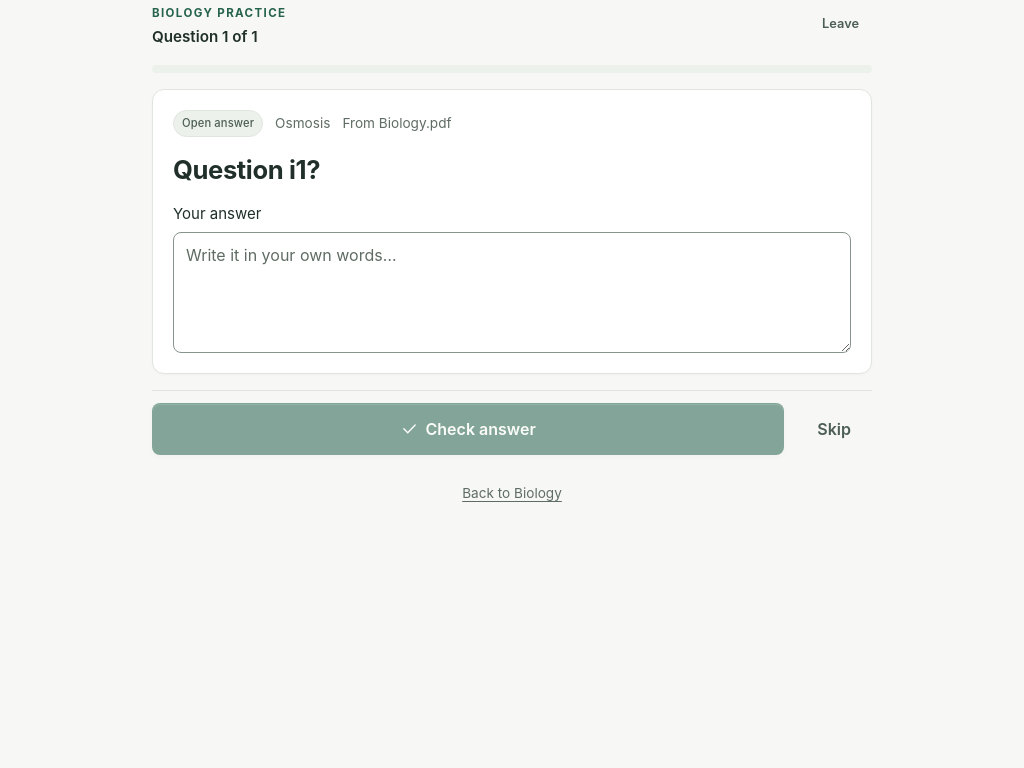
practice session › answers an open question from a text box
This screenshot has width=1024, height=768.
In the text box labelled "Your answer": (512, 292) x1=173 y1=232 x2=851 y2=353, type "water moves"
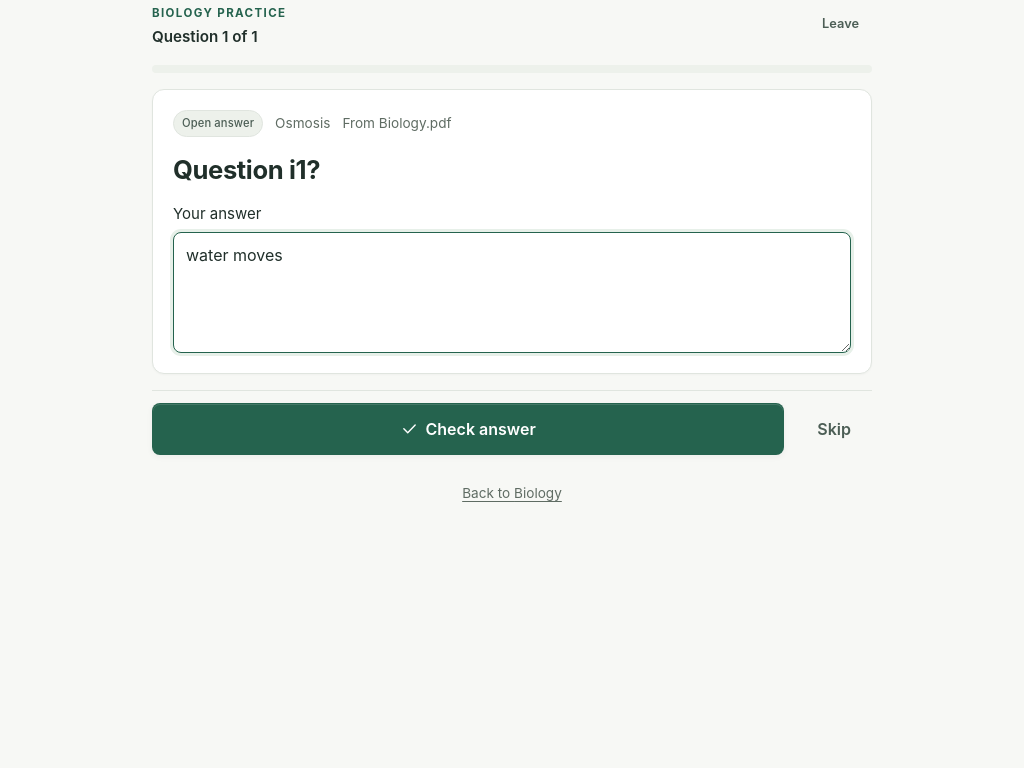
Click the button "Check answer": (468, 429) x1=152 y1=403 x2=784 y2=455
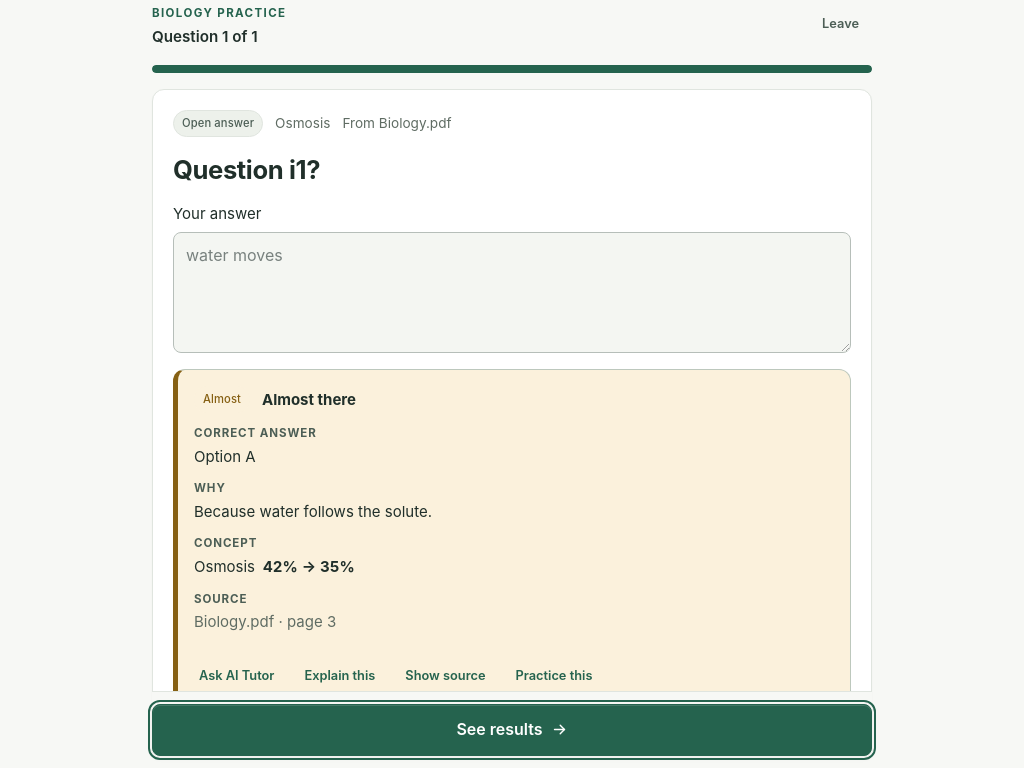
Check: the text "Almost there" is shown, box x1=262 y1=388 x2=356 y2=411
Check: the button "See results" is shown, box x1=152 y1=704 x2=872 y2=756
